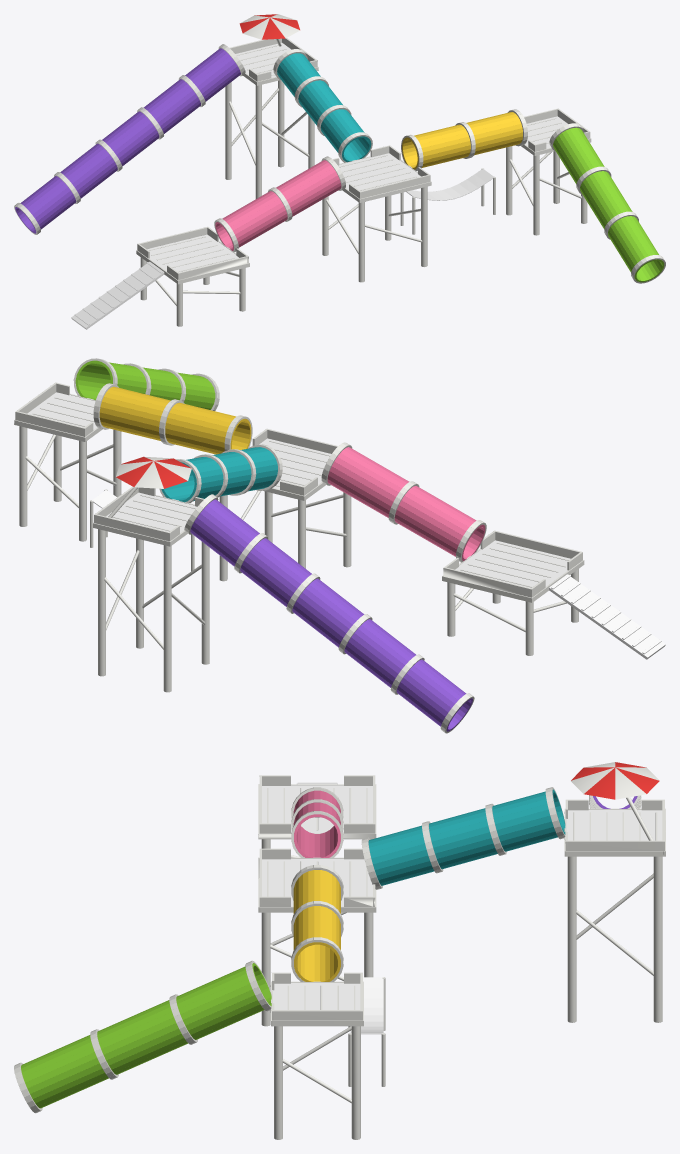
The model's file is gym.glb.
The picture shows the model from 3 angles, top to bottom: view 1: azimuth 30°, elevation 25°; view 2: azimuth 150°, elevation 25°; view 3: azimuth 270°, elevation 25°; orthographic projection. The views are drawn at different scales.
Parts seen in each view (by area): view 1: gym.001; view 2: gym.001; view 3: gym.001.
Part boxes in pixels (left/top/right/bottom): gym.001: left=14, top=14, right=665, bottom=329; gym.001: left=14, top=358, right=665, bottom=733; gym.001: left=14, top=762, right=665, bottom=1139.
Size of the model in its own units: 98.36 by 31.4 by 78.82.
